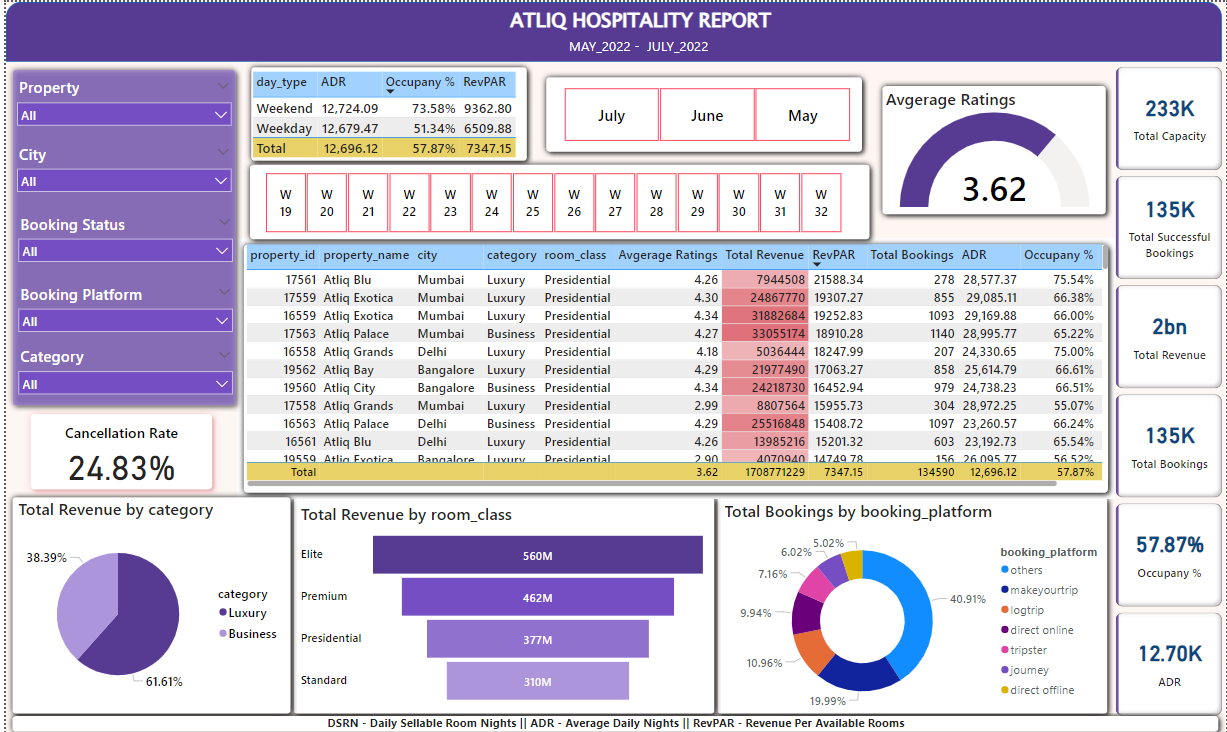

Layout of this report page (visuals, bound fields, positions):
{"tool":"powerbi","page":{"name":"Main Dashboard","canvas":[1700,1025],"ordinal":0},"visuals":[{"type":"cardVisual","fields":{"Data":["fact_aggregated_bookings.Total Capacity","fact_aggregated_bookings.Total Successful Bookings","fact_booking.Total Revenue","fact_booking.Total Bookings","fact_aggregated_bookings.Occupany %","dim_date.ADR"]},"box":[1541.4,85.7,159,914.5],"z":0},{"type":"shape","box":[0,0,1693.3,83.2],"z":1000},{"type":"textbox","box":[628.7,0,501.9,55.4],"z":2000},{"type":"textbox","box":[764.4,42.9,234,39.3],"z":3000},{"type":"shape","box":[982.4,680.5,560.8,319.7],"z":4000},{"type":"shape","box":[391.2,680.3,603.7,319.7],"z":5000},{"type":"shape","box":[321.4,329.4,1221.7,363.3],"z":6000},{"type":"funnel","fields":{"Category":["dim_rooms.room_class"],"Y":["fact_booking.Total Revenue"]},"box":[405.4,696.6,575.1,291.1],"z":7000},{"type":"donutChart","fields":{"Y":["fact_booking.Total Bookings"],"Category":["fact_booking.booking_platform"]},"box":[995.8,692.9,543.1,308.1],"z":8000},{"type":"shape","box":[0,85.3,329,485.7],"z":9000},{"type":"slicer","fields":{"Values":["dim_hotels.city"]},"box":[5.2,191.5,318.6,88.8],"z":10000},{"type":"slicer","fields":{"Values":["fact_booking.booking_platform"]},"box":[7,386.5,318.6,78.3],"z":11000},{"type":"shape","box":[0,680.7,405.2,319.4],"z":12000},{"type":"pieChart","fields":{"Y":["fact_booking.Total Revenue"],"Category":["dim_hotels.category"]},"box":[12,690,382,296],"z":13000},{"type":"slicer","fields":{"Values":["dim_hotels.category"]},"box":[7,473.5,318.6,83.6],"z":14000},{"type":"tableEx","fields":{"Values":["dim_hotels.property_id","dim_hotels.property_name","dim_hotels.city","dim_hotels.category","dim_rooms.room_class","fact_booking.Avgerage Ratings","fact_booking.Total Revenue","fact_aggregated_bookings.RevPAR","fact_booking.Total Bookings","dim_date.ADR","fact_aggregated_bookings.Occupany %","dim_rooms.DSRN"]},"box":[329.4,333.4,1211.7,347.3],"z":15000},{"type":"shape","box":[1211.6,107.9,329,196.7],"z":16000},{"type":"gauge","fields":{"Y":["fact_booking.Avgerage Ratings"]},"box":[1220.3,118.4,313.4,172.3],"z":17000},{"type":"shape","box":[332.2,82.2,401.9,148.2],"z":18000},{"type":"tableEx","fields":{"Values":["dim_date.day_type","dim_date.ADR","fact_aggregated_bookings.Occupany %","fact_aggregated_bookings.RevPAR"]},"box":[337.6,92.9,392.9,135.7],"z":19000},{"type":"shape","box":[330.8,217.6,880.9,121.9],"z":20000},{"type":"slicer","fields":{"Values":["dim_date.week no"]},"box":[336,231.5,851.3,95.7],"z":21000},{"type":"shape","box":[743.3,95.7,457.8,121.9],"z":22000},{"type":"slicer","fields":{"Values":["dim_date.Month Name"]},"box":[752,113.2,447.4,87],"z":23000},{"type":"cardVisual","fields":{"Data":["fact_booking.Cancellation Rate"]},"box":[17.4,557.1,287.2,139.3],"z":24000},{"type":"slicer","fields":{"Values":["dim_hotels.property_name"]},"box":[5.2,99.2,318.6,88.8],"z":25000},{"type":"shape","box":[0,985.3,1697.3,40],"z":26000},{"type":"textbox","box":[421.3,987.1,856.5,38.3],"z":27000},{"type":"slicer","fields":{"Values":["fact_booking.booking_status"]},"box":[7,289,318.6,88.8],"z":28000}]}

Visuals, with their boxes in screenshot pixels (x1, y1, x2, y2), scaled from the page's 1700x1025 canvas onto the 1227x732 screenshot:
cardVisual - fact_aggregated_bookings.Total Capacity x fact_aggregated_bookings.Total Successful Bookings: locate(1113, 61, 1226, 714)
shape: locate(0, 0, 1222, 59)
textbox: locate(454, 0, 816, 40)
textbox: locate(552, 31, 721, 59)
shape: locate(709, 486, 1114, 714)
shape: locate(282, 486, 718, 714)
shape: locate(232, 235, 1114, 495)
funnel - dim_rooms.room_class x fact_booking.Total Revenue: locate(293, 497, 708, 705)
donutChart - fact_booking.Total Bookings x fact_booking.booking_platform: locate(719, 495, 1111, 715)
shape: locate(0, 61, 237, 408)
slicer - dim_hotels.city: locate(4, 137, 234, 200)
slicer - fact_booking.booking_platform: locate(5, 276, 235, 332)
shape: locate(0, 486, 292, 714)
pieChart - fact_booking.Total Revenue x dim_hotels.category: locate(9, 493, 284, 704)
slicer - dim_hotels.category: locate(5, 338, 235, 398)
tableEx - dim_hotels.property_id x dim_hotels.property_name: locate(238, 238, 1112, 486)
shape: locate(874, 77, 1112, 218)
gauge - fact_booking.Avgerage Ratings: locate(881, 85, 1107, 208)
shape: locate(240, 59, 530, 165)
tableEx - dim_date.day_type x dim_date.ADR: locate(244, 66, 527, 163)
shape: locate(239, 155, 875, 242)
slicer - dim_date.week no: locate(243, 165, 857, 234)
shape: locate(536, 68, 867, 155)
slicer - dim_date.Month Name: locate(543, 81, 866, 143)
cardVisual - fact_booking.Cancellation Rate: locate(13, 398, 220, 497)
slicer - dim_hotels.property_name: locate(4, 71, 234, 134)
shape: locate(0, 704, 1225, 731)
textbox: locate(304, 705, 922, 731)
slicer - fact_booking.booking_status: locate(5, 206, 235, 270)
